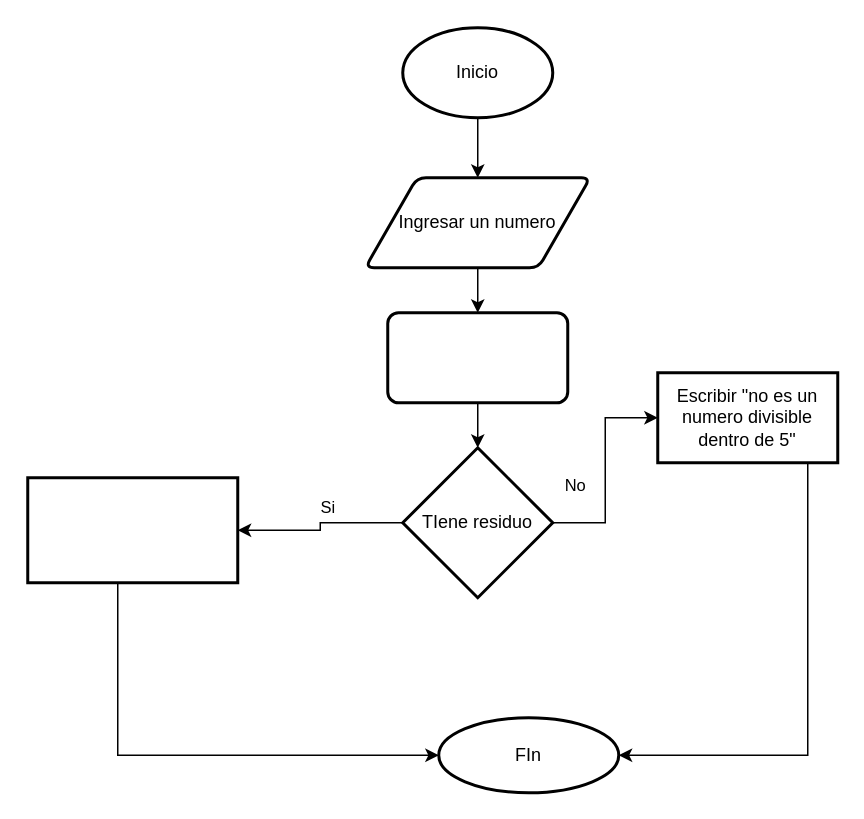
This 864x819 diagram has some shape labels left out. Each missing label, with the centre of its shape:
Dividir el numero dentro de 5: point 477,357
Escribir "no es divisible dentro de 5": point 132,530
